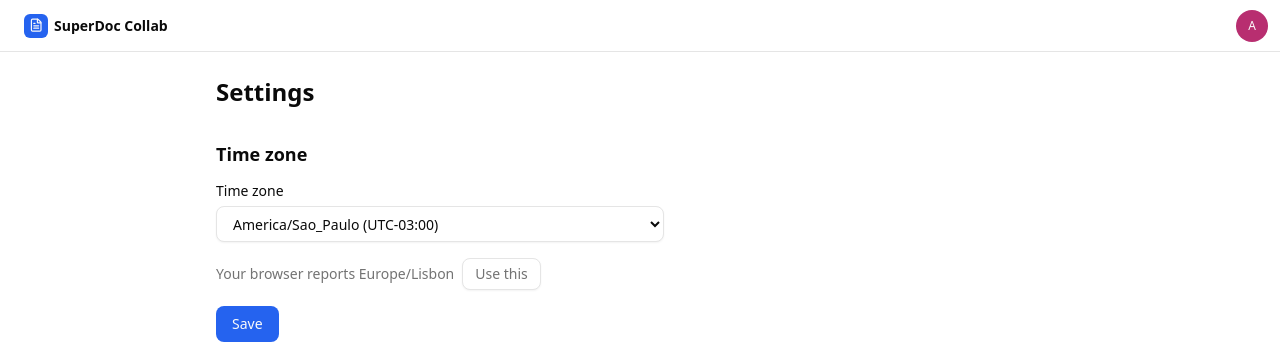
Test case: offers the browser zone when it differs and picks it on Use this
Click the button "Use this": (502, 274) [462, 258, 541, 290]
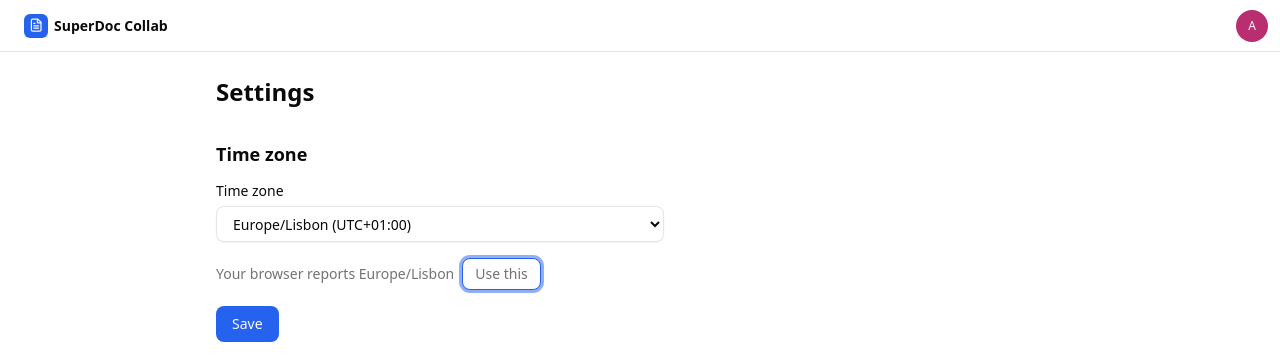
Check: the dropdown labelled "Time zone" shows "Europe/Lisbon (UTC+01:00)", box [216, 206, 664, 242]
